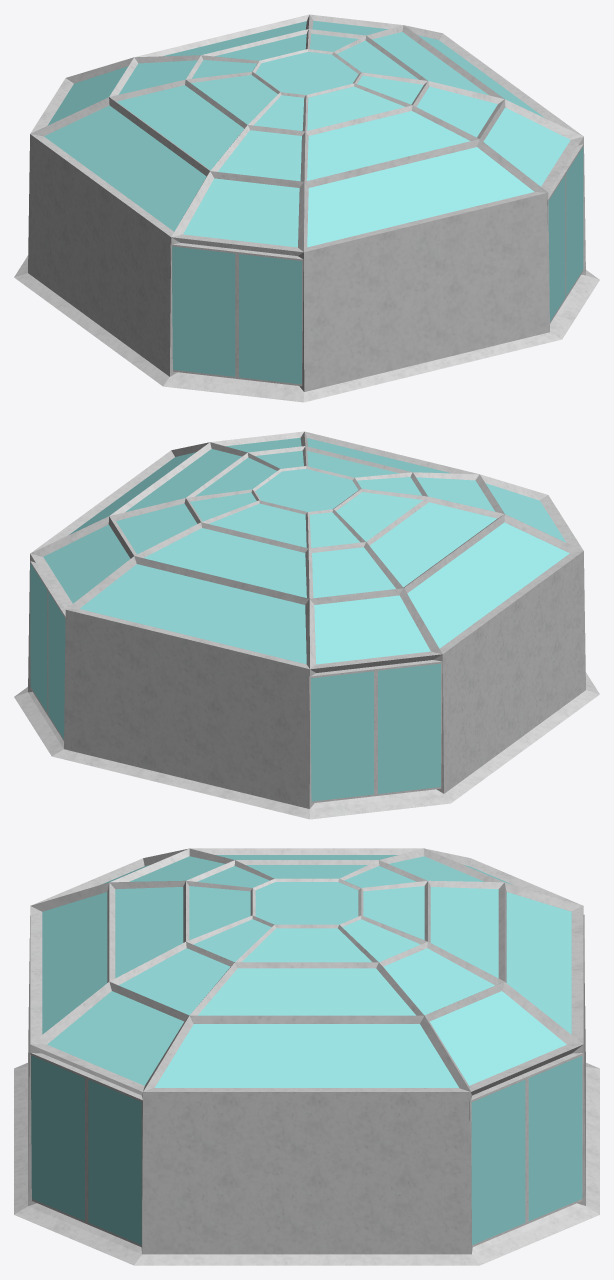
Rendered from Conference.glb.
3 views of the same model, one above another, from view 1: azimuth 30°, elevation 25°; view 2: azimuth 150°, elevation 25°; view 3: azimuth 270°, elevation 25° (orthographic). The views are drawn at different scales.
Parts seen in each view (by area): view 1: ConferenceRoom, Glass, DoorLeft.001, DoorRight.001, DoorLeft, DoorRight; view 2: ConferenceRoom, Glass, DoorLeft.002, DoorRight.002, DoorRight.003, DoorLeft.003; view 3: ConferenceRoom, Glass, DoorLeft, DoorLeft.003, DoorRight.003, DoorRight.
Part boxes in pixels (bbox=[...]): ConferenceRoom: bbox=[14, 14, 599, 402]; Glass: bbox=[44, 20, 570, 247]; DoorLeft.001: bbox=[237, 249, 303, 386]; DoorRight.001: bbox=[170, 243, 238, 378]; DoorLeft: bbox=[562, 144, 583, 298]; DoorRight: bbox=[547, 171, 565, 323]; ConferenceRoom: bbox=[14, 431, 599, 819]; Glass: bbox=[43, 437, 569, 664]; DoorLeft.002: bbox=[374, 660, 442, 795]; DoorRight.002: bbox=[308, 666, 375, 803]; DoorRight.003: bbox=[30, 561, 51, 715]; DoorLeft.003: bbox=[48, 588, 65, 740]; ConferenceRoom: bbox=[14, 848, 599, 1265]; Glass: bbox=[42, 855, 571, 1087]; DoorLeft: bbox=[86, 1074, 142, 1247]; DoorLeft.003: bbox=[522, 1053, 583, 1223]; DoorRight.003: bbox=[469, 1074, 526, 1247]; DoorRight: bbox=[29, 1052, 91, 1223].
Size of the model in its own units: 25.05 by 11.32 by 25.05.
Materials: 9 (7 with a texture image).
